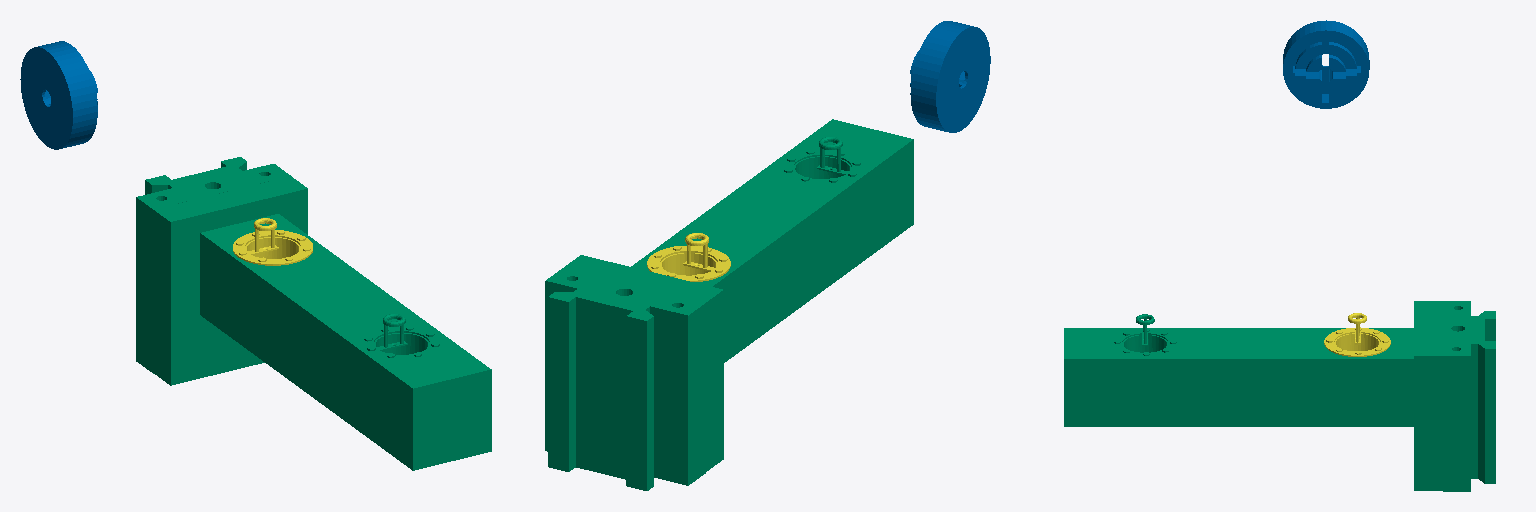
URDF robot description (winder_robot):
<?xml version="1.0"?>
<robot name="winder_robot">
  
  <!-- Base Link - Chassis (ground link) -->
  <link name="winder_chassis">
    <visual>
      <origin xyz="0 0 0" rpy="0 0 0"/>
      <geometry>
        <mesh filename="mesh/winder_chassis.stl"/>
      </geometry>
    </visual>
    <collision>
      <origin xyz="0 0 0" rpy="0 0 0"/>
      <geometry>
        <mesh filename="mesh/winder_chassis.stl"/>
      </geometry>
    </collision>
    <inertial>
      <mass value="10.0"/>
      <inertia ixx="1.0" ixy="0.0" ixz="0.0" iyy="1.0" iyz="0.0" izz="1.0"/>
    </inertial>
  </link>

  <!-- Carriage Link -->
  <link name="winder_carriage">
    <visual>
      <origin xyz="0 0 0" rpy="0 0 0"/>
      <geometry>
        <mesh filename="mesh/winder_carriage.stl"/>
      </geometry>
    </visual>
    <collision>
      <origin xyz="0 0 0" rpy="0 0 0"/>
      <geometry>
        <mesh filename="mesh/winder_carriage.stl"/>
      </geometry>
    </collision>
    <inertial>
      <mass value="5.0"/>
      <inertia ixx="0.5" ixy="0.0" ixz="0.0" iyy="0.5" iyz="0.0" izz="0.5"/>
    </inertial>
  </link>

  <!-- Cross Carriage Link -->
  <link name="winder_crosscarriage">
    <visual>
      <origin xyz="0 0 0" rpy="0 0 0"/>
      <geometry>
        <mesh filename="mesh/winder_crosscarriage.stl"/>
      </geometry>
    </visual>
    <collision>
      <origin xyz="0 0 0" rpy="0 0 0"/>
      <geometry>
        <mesh filename="mesh/winder_crosscarriage.stl"/>
      </geometry>
    </collision>
    <inertial>
      <mass value="3.0"/>
      <inertia ixx="0.3" ixy="0.0" ixz="0.0" iyy="0.3" iyz="0.0" izz="0.3"/>
    </inertial>
  </link>

  <!-- Eyelet Link -->
  <link name="winder_eyelet">
    <visual>
      <origin xyz="0.0 0.0 0.0" rpy="0 0 0"/>
      <geometry>
        <mesh filename="mesh/winder_eyelet2.stl"/>
      </geometry>
    </visual>
    <collision>
      <origin xyz="0.0 0.0 0.0" rpy="0 0 0"/>
      <geometry>
        <mesh filename="mesh/winder_eyelet2.stl"/>
      </geometry>
    </collision>
    <inertial>
      <mass value="1.0"/>
      <inertia ixx="0.1" ixy="0.0" ixz="0.0" iyy="0.1" iyz="0.0" izz="0.1"/>
    </inertial>
  </link>

  <!-- Spindle Link -->
  <link name="winder_spindle">
    <visual>
      <origin xyz="0.0 0.0 0.0" rpy="0 0 0"/>
      <geometry>
        <mesh filename="mesh/winder_spindle2.stl"/>
      </geometry>
    </visual>
    <collision>
      <origin xyz="0.0 0.0 0.0" rpy="0 0 0"/>
      <geometry>
        <mesh filename="mesh/winder_spindle2.stl"/>
      </geometry>
    </collision>
    <inertial>
      <mass value="2.0"/>
      <inertia ixx="0.2" ixy="0.0" ixz="0.0" iyy="0.2" iyz="0.0" izz="0.2"/>
    </inertial>
  </link>

  <!-- Joint: Carriage (Prismatic, X-axis) -->
  <joint name="carriage" type="prismatic">
    <parent link="winder_chassis"/>
    <child link="winder_carriage"/>
    <origin xyz="0 0 0" rpy="0 0 0"/>
    <axis xyz="1 0 0"/>
    <limit lower="-1000" upper="1000" effort="1000" velocity="10"/>
  </joint>

  <!-- Joint: Cross Carriage (Prismatic, Z-axis) -->
  <joint name="cross_carriage" type="prismatic">
    <parent link="winder_carriage"/>
    <child link="winder_crosscarriage"/>
    <origin xyz="0 0 0" rpy="0 0 0"/>
    <axis xyz="0 0 1"/>
    <limit lower="-500" upper="500" effort="1000" velocity="10"/>
  </joint>

  <!-- Joint: Eye (Revolute, Z-axis, rotation center: 762.75, 1230, -799.0) -->
  <joint name="eye" type="revolute">
    <parent link="winder_crosscarriage"/>
    <child link="winder_eyelet"/>
    <origin xyz="762.75 1230.0 -799.0" rpy="0 0 0"/>
    <axis xyz="0 0 1"/>
    <limit lower="-3.14159" upper="3.14159" effort="100" velocity="5"/>
  </joint>

  <!-- Joint: Spindle (Revolute, X-axis) -->
  <joint name="spindle" type="revolute">
    <parent link="winder_chassis"/>
    <child link="winder_spindle"/>
    <origin xyz="266.7 1163.38 -285.30" rpy="0 0 0"/>
    <axis xyz="1 0 0"/>
    <limit lower="-3.14159" upper="3.14159" effort="200" velocity="10"/>
  </joint>

</robot>

--- Render facts (derived) ---
3 views of the same robot in one strip: view 1: azimuth 30°, elevation 25°; view 2: azimuth 150°, elevation 25°; view 3: azimuth 270°, elevation 25° (orthographic).
Robot: winder_robot — 5 links, 4 joints (2 revolute, 2 prismatic); root link winder_chassis; default pose: all joints at 0.
Links seen in each view (by area): view 1: winder_crosscarriage, winder_spindle, winder_eyelet; view 2: winder_crosscarriage, winder_spindle, winder_eyelet; view 3: winder_crosscarriage, winder_spindle, winder_eyelet.
Boxes of the visible links, x1,y1,x2,y2 form: winder_crosscarriage: [136, 157, 491, 470]; winder_spindle: [20, 41, 97, 149]; winder_eyelet: [233, 218, 312, 265]; winder_crosscarriage: [545, 119, 913, 490]; winder_spindle: [910, 21, 990, 132]; winder_eyelet: [647, 233, 730, 281]; winder_crosscarriage: [1064, 301, 1495, 491]; winder_spindle: [1283, 20, 1369, 108]; winder_eyelet: [1324, 313, 1390, 356].
Bounding box of the posed robot: 637 × 919 × 807 m (x, y, z).
Meshes: 5 distinct files referenced, 3 mesh visuals loaded (3 ASCII STL); not drawn: 2 (reference not matched to a file when rendering).